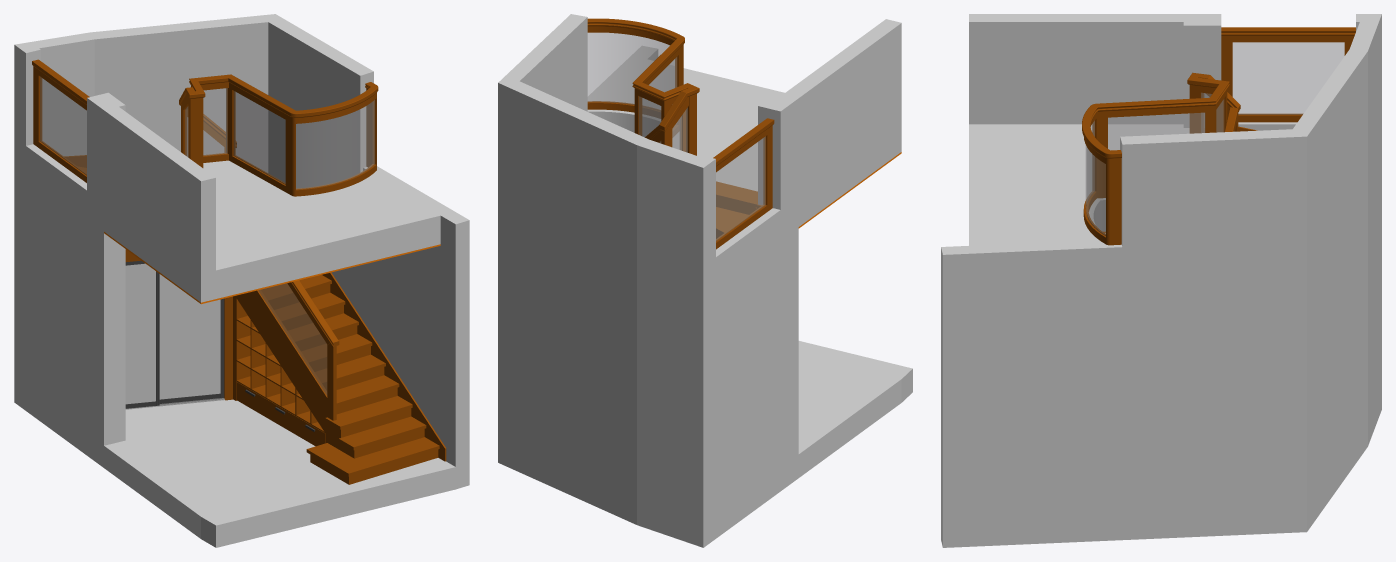
File: 3D Сборка 1.obj
3 renders of one model, left to right at view 1: azimuth 30°, elevation 25°; view 2: azimuth 150°, elevation 25°; view 3: azimuth 270°, elevation 25°, orthographic. The views are drawn at different scales.
Bounding box in the file's own units: 3.47 × 4.63 × 4.68.
